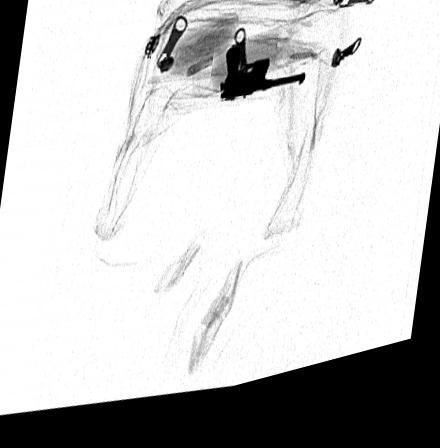Gun: (217, 49, 307, 115)
